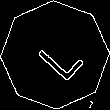L_NW: (26, 27, 84, 83)
